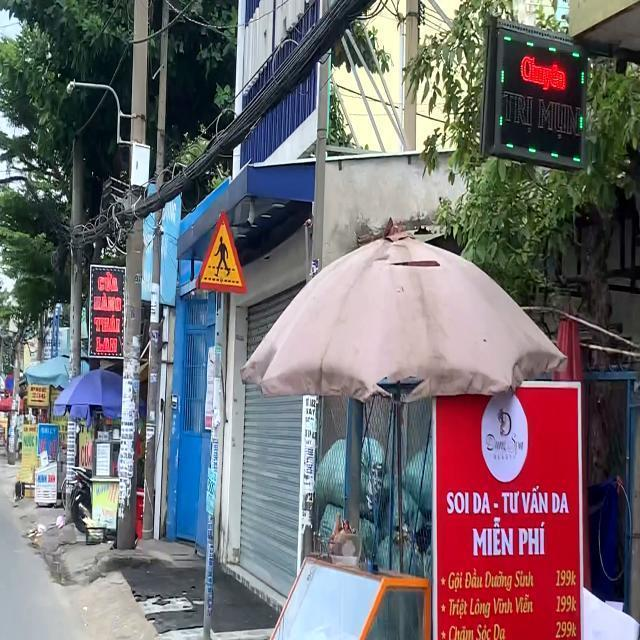224-duong-nguoi-di-bo-cat-ngang: (195, 212, 248, 294)
